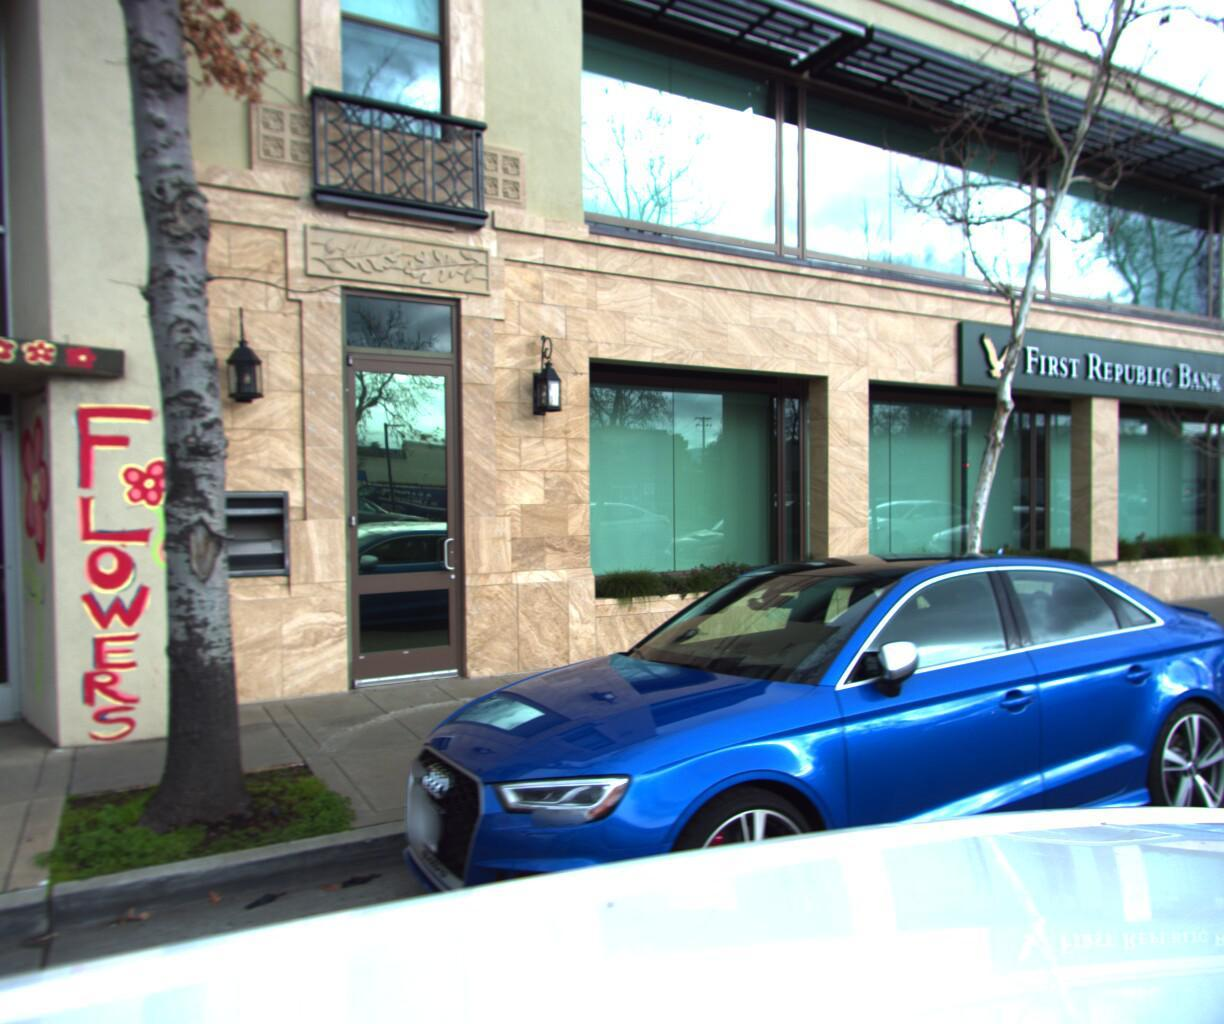car: (367, 532, 1224, 1024)
